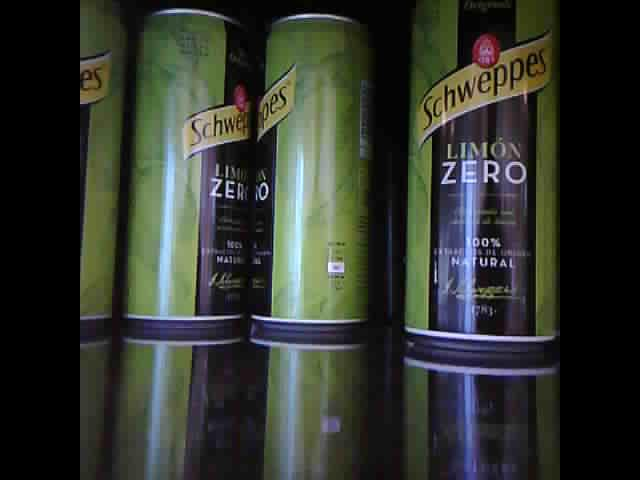schweppes: (403, 8, 559, 348), (247, 9, 377, 332), (122, 7, 251, 330), (79, 1, 136, 329)
